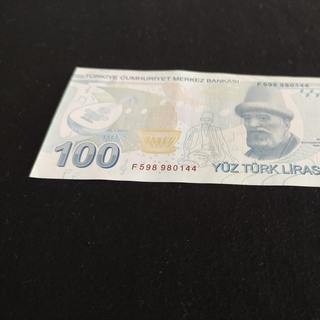100TLBack: (29, 65, 320, 189)
